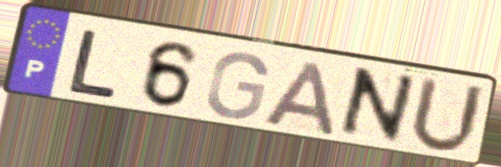6: (139, 39, 201, 112)
A: (260, 59, 339, 139)
G: (203, 49, 272, 122)
L: (64, 26, 120, 102)
N: (332, 65, 420, 148)
U: (405, 73, 488, 157)
